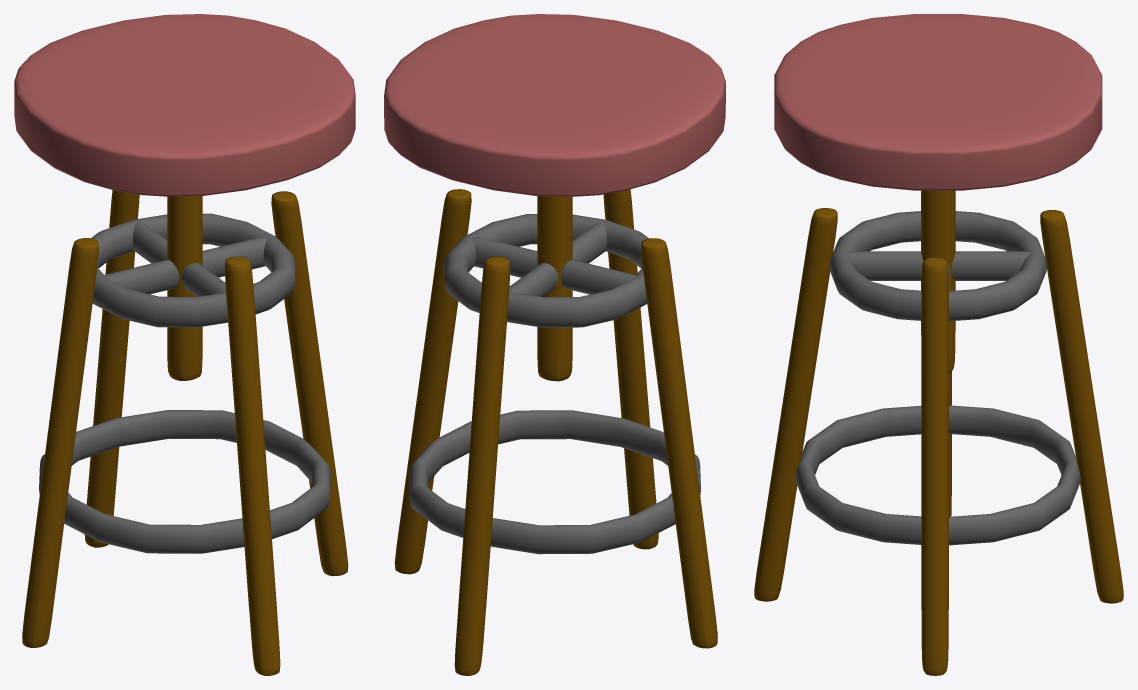
Rendered from Tall_Stool.fbx.
The picture shows the model from 3 angles, left to right: view 1: azimuth 30°, elevation 25°; view 2: azimuth 150°, elevation 25°; view 3: azimuth 270°, elevation 25°; orthographic projection.
Parts seen in each view (by area): view 1: Tall_Stool_Seat1, Tall_Stool_Wood1, Tall_Stool_Metal1; view 2: Tall_Stool_Seat1, Tall_Stool_Wood1, Tall_Stool_Metal1; view 3: Tall_Stool_Seat1, Tall_Stool_Wood1, Tall_Stool_Metal1.
Boxes of the visible parts, x1,y1,x2,y2 form: Tall_Stool_Seat1: (14, 14, 355, 196); Tall_Stool_Wood1: (22, 190, 348, 675); Tall_Stool_Metal1: (39, 213, 330, 553); Tall_Stool_Seat1: (384, 14, 725, 196); Tall_Stool_Wood1: (394, 189, 717, 675); Tall_Stool_Metal1: (409, 214, 700, 554); Tall_Stool_Seat1: (774, 14, 1102, 190); Tall_Stool_Wood1: (754, 190, 1123, 675); Tall_Stool_Metal1: (795, 211, 1080, 545).
Size of the model in its own units: 118 by 185 by 119.
